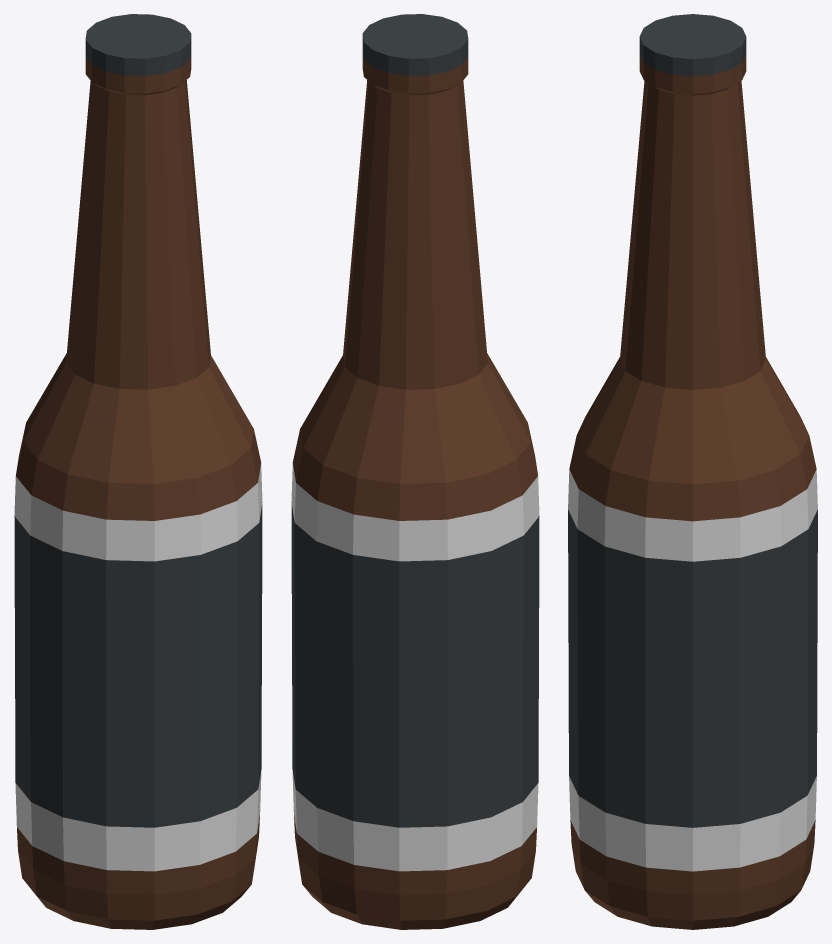
The model's file is Beer_02.fbx.
The picture shows the model from 3 angles, left to right: view 1: azimuth 30°, elevation 25°; view 2: azimuth 150°, elevation 25°; view 3: azimuth 270°, elevation 25°; orthographic projection.
Parts seen in each view (by area): view 1: Beer_02; view 2: Beer_02; view 3: Beer_02.
Part boxes in pixels (x1,y1,x2,y2): Beer_02: (14, 14, 262, 929); Beer_02: (291, 14, 539, 929); Beer_02: (568, 14, 817, 929).
Size of the model in its own units: 5.65 by 21.17 by 5.65.
